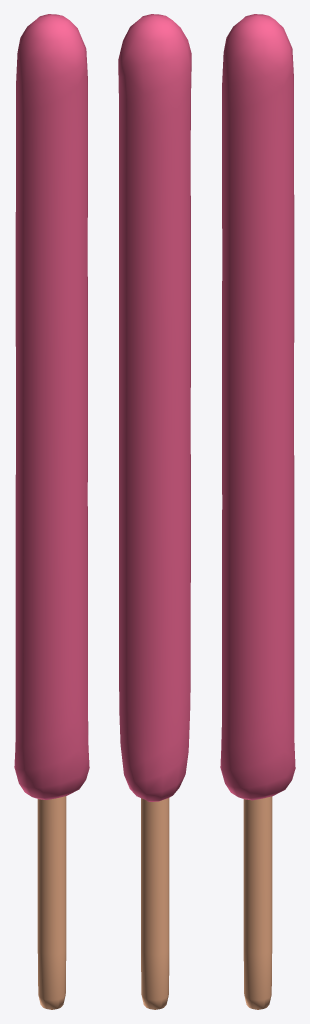
File: Pokka_03.fbx
3 views of the same model, side by side, from view 1: azimuth 90°, elevation 25°; view 2: azimuth 150°, elevation 25°; view 3: azimuth 270°, elevation 25° (orthographic).
Parts seen in each view (by area): view 1: Pokka_03_LOD0; view 2: Pokka_03_LOD0; view 3: Pokka_03_LOD0.
Part boxes in pixels (x1=…): Pokka_03_LOD0: x1=14, y1=14, x2=89, y2=1009; Pokka_03_LOD0: x1=118, y1=14, x2=191, y2=1009; Pokka_03_LOD0: x1=220, y1=14, x2=295, y2=1009.
Size of what is drawn, in the model's own units: 83.63 by 1275 by 87.56.
